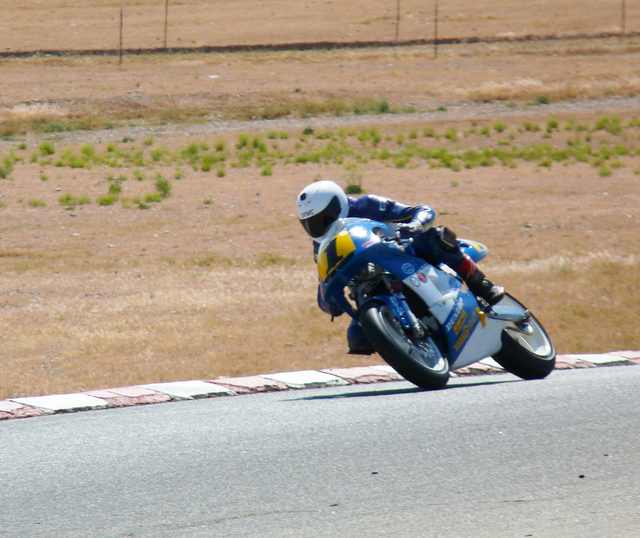helmet: (297, 179, 353, 236)
